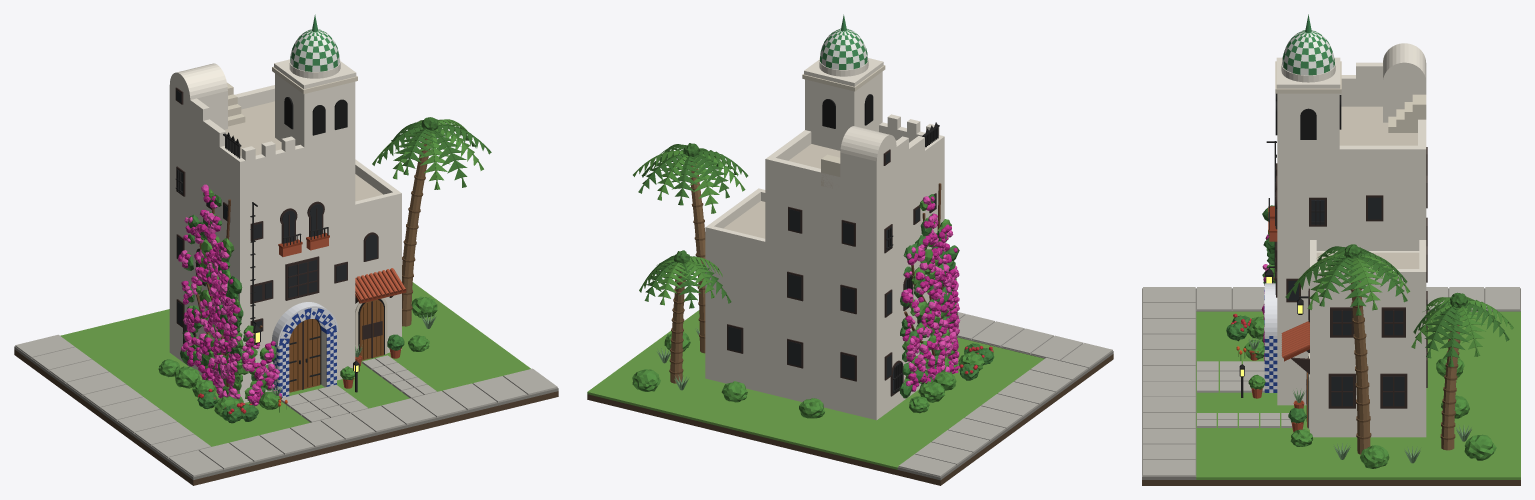
The model's file is moorish-tower-house.glb.
3 views of the same model, side by side, from view 1: azimuth 30°, elevation 25°; view 2: azimuth 150°, elevation 25°; view 3: azimuth 270°, elevation 25° (orthographic). The views are drawn at different scales.
Parts seen in each view (by area): view 1: wall, concrete, grass, bloom, leaf2, bloom2, soil, leaf, frame, door, glass, frond2 (+14 smaller); view 2: wall, grass, concrete, leaf2, bloom, frond2, soil, frond, glass, bloom2, leaf, frame (+9 smaller); view 3: wall, grass, concrete, frond2, frame, frond, glass, leaf2, roofdeck, palm_trunk, soil, wall_sh (+11 smaller).
Boxes of the visible parts, left/top/right/bottom form: wall: left=169, top=59, right=401, bottom=402; concrete: left=15, top=334, right=557, bottom=476; grass: left=60, top=282, right=530, bottom=446; bloom: left=178, top=190, right=275, bottom=404; leaf2: left=158, top=188, right=437, bottom=417; bloom2: left=181, top=184, right=281, bottom=405; soil: left=14, top=349, right=558, bottom=485; leaf: left=180, top=194, right=404, bottom=423; frame: left=175, top=87, right=393, bottom=389; door: left=289, top=299, right=383, bottom=392; glass: left=176, top=90, right=377, bottom=343; frond2: left=377, top=117, right=491, bottom=187; wall: left=705, top=58, right=944, bottom=420; grass: left=587, top=310, right=1044, bottom=469; concrete: left=898, top=312, right=1112, bottom=477; leaf2: left=632, top=200, right=984, bottom=418; bloom: left=901, top=196, right=960, bottom=391; frond2: left=638, top=143, right=748, bottom=308; soil: left=587, top=354, right=1113, bottom=485; frond: left=633, top=150, right=745, bottom=305; glass: left=728, top=152, right=935, bottom=393; bloom2: left=903, top=196, right=960, bottom=386; leaf: left=899, top=194, right=994, bottom=398; frame: left=727, top=149, right=936, bottom=396; wall: left=1276, top=43, right=1426, bottom=437; grass: left=1196, top=311, right=1520, bottom=479; concrete: left=1143, top=287, right=1519, bottom=476; frond2: left=1285, top=244, right=1509, bottom=366; frame: left=1275, top=147, right=1427, bottom=421; frond: left=1294, top=251, right=1513, bottom=356; glass: left=1275, top=166, right=1404, bottom=406; leaf2: left=1238, top=230, right=1496, bottom=468; roofdeck: left=1316, top=106, right=1419, bottom=268; palm_trunk: left=1350, top=276, right=1459, bottom=454; soil: left=1142, top=480, right=1520, bottom=485; wall_sh: left=1275, top=61, right=1426, bottom=429.
Size of the model in its own units: 17.48 by 15.78 by 14.
